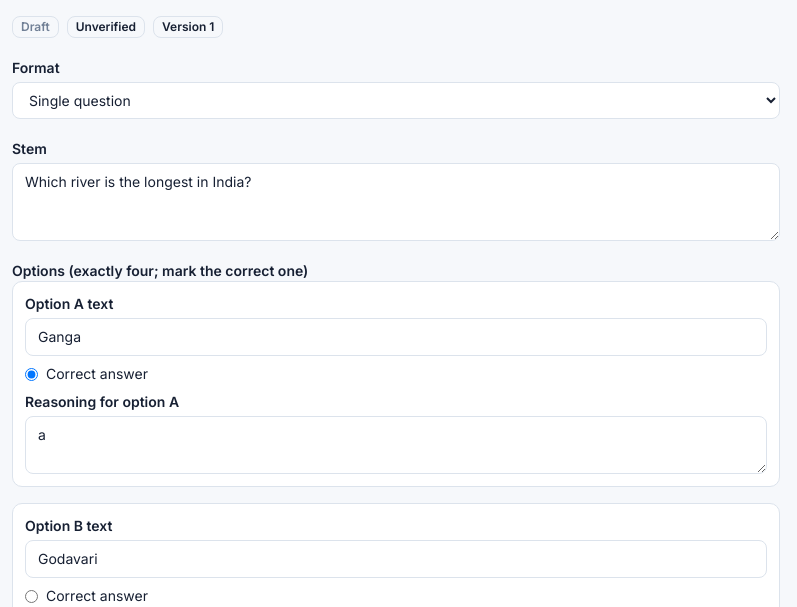
Test: QuestionForm correct-option change › asks for a reason, sends it, and shows the new version
Step 1. Click the radio button with aria-label "Option B is correct" → (32, 596), box [25,590,38,602]
(page scrolled)
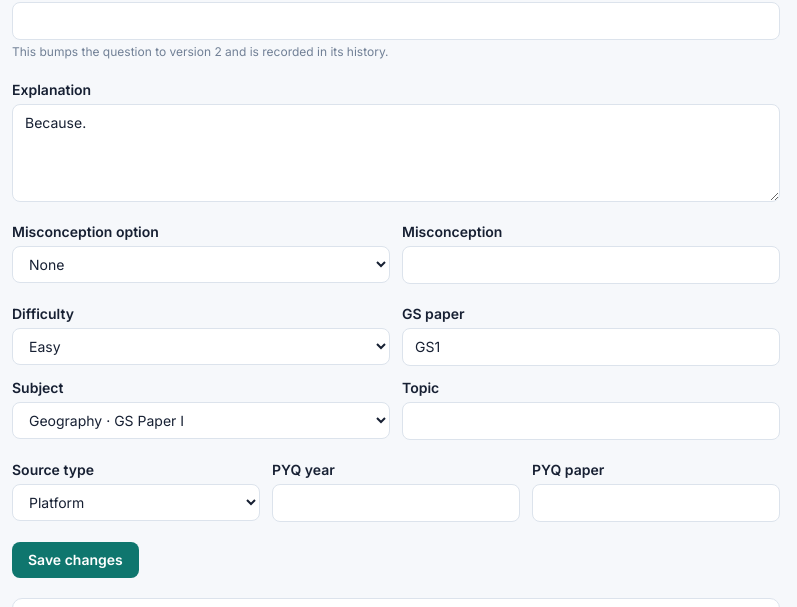
Step 2. Click the button "Save changes" → (75, 560), box [12,542,139,578]
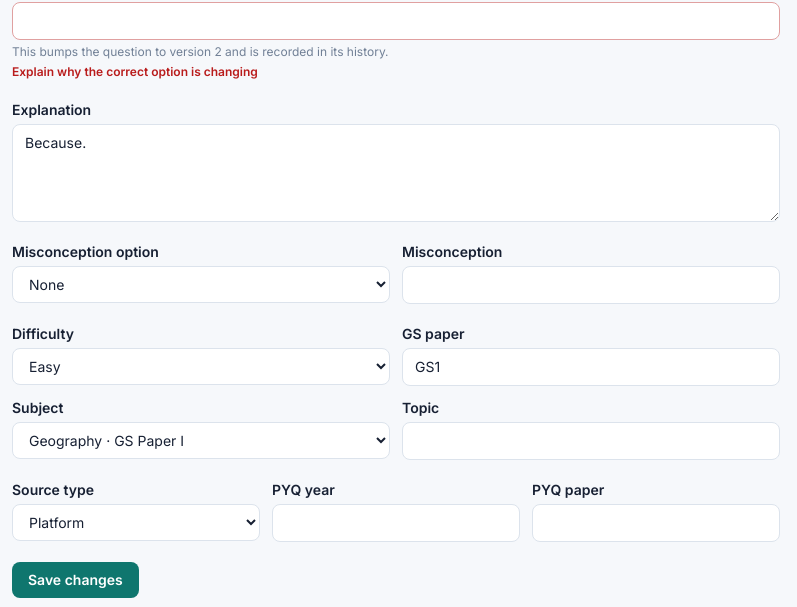
Now the text "Explain why the correct option is changing" is shown, box [12,64,258,79]
Step 3. Type "Key was wrong" into the field labelled "Reason for changing the correct option" → (396, 21), box [12,2,780,40]
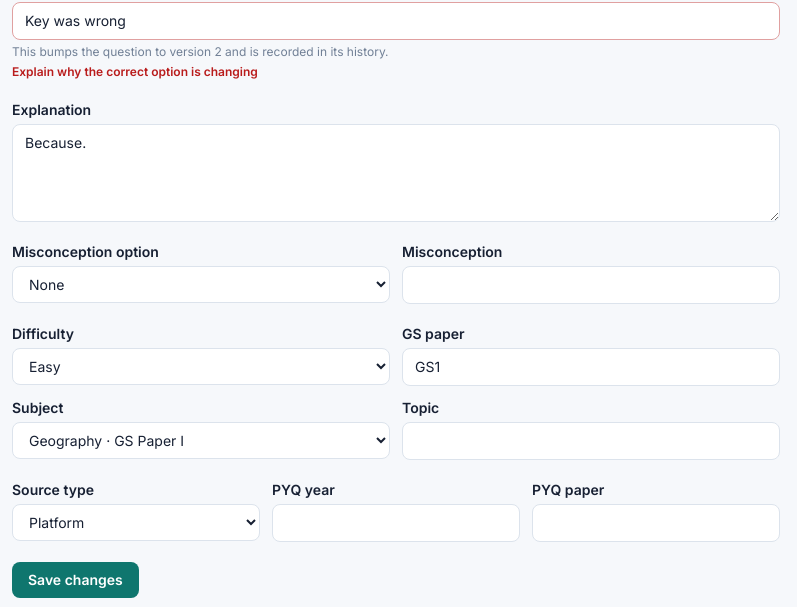
Step 4. Click the button "Save changes" → (75, 580), box [12,562,139,598]
(page scrolled)
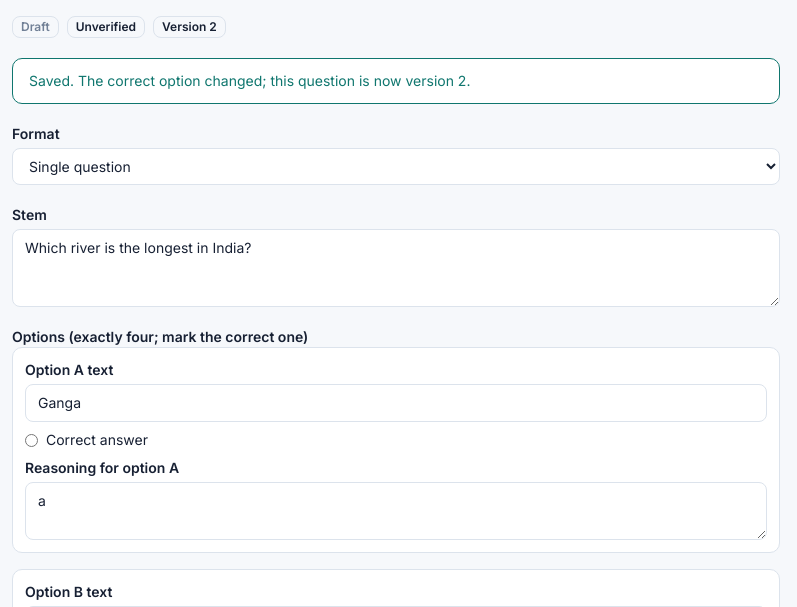
Now the text "Saved. The correct option changed; this question is now version 2." is shown, box [12,58,780,104]
Now the text "Version 2" is shown, box [153,16,226,38]
